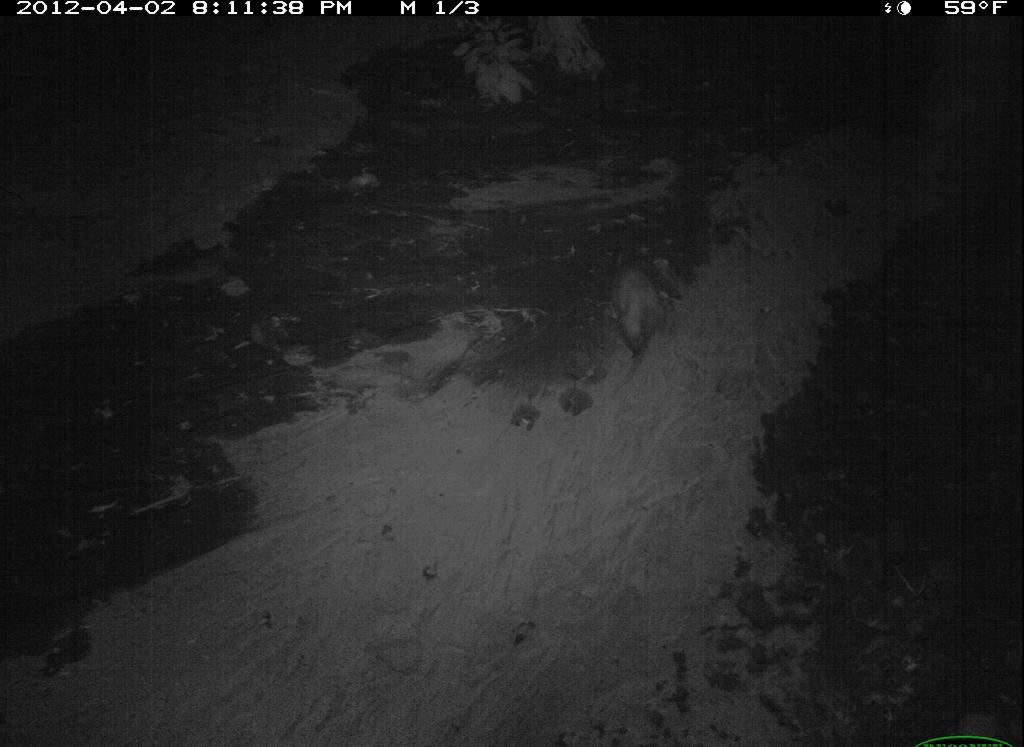opossum: (602, 240, 674, 365)
